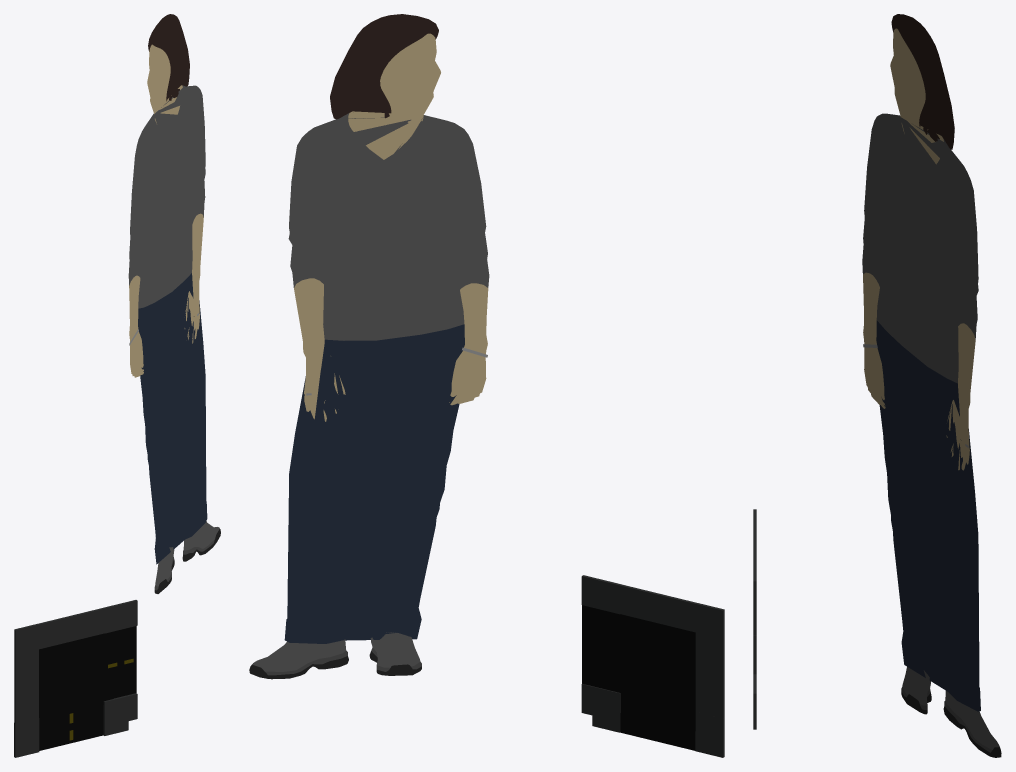
The model's file is Road_turn.obj.
The picture shows the model from 3 angles, left to right: view 1: azimuth 30°, elevation 25°; view 2: azimuth 150°, elevation 25°; view 3: azimuth 270°, elevation 25°; orthographic projection. The views are drawn at different scales.
Parts seen in each view (by area): view 1: Mesh1 Susan1 Model, Mesh11 Mesh_003_1 skp105_1 Model, Mesh2 Mesh_3_1 skp105_1 Model, Mesh16 Mesh_005_1 skp105_1 Model, Mesh10 Mesh_002_1 skp105_1 Model, Mesh15 Mesh_004_1 skp105_1 Model, Mesh20 Mesh_006_1 skp105_1 Model, Mesh3 Mesh_001_1_1 skp105_1 Model, Mesh6 Mesh_001_1_1 skp105_1 Model, Mesh17 Mesh_006_1 skp105_1 Model, Mesh12 Mesh_004_1 skp105_1 Model, Mesh7 Mesh_002_1 skp105_1 Model (+2 smaller); view 2: Mesh1 Susan1 Model, Mesh11 Mesh_003_1 skp105_1 Model, Mesh16 Mesh_005_1 skp105_1 Model, Mesh2 Mesh_3_1 skp105_1 Model, Mesh15 Mesh_004_1 skp105_1 Model, Mesh20 Mesh_006_1 skp105_1 Model, Mesh10 Mesh_002_1 skp105_1 Model, Mesh6 Mesh_001_1_1 skp105_1 Model; view 3: Mesh1 Susan1 Model.
Boxes of the visible parts, bbox=[...] form: Mesh1 Susan1 Model: bbox=[128, 14, 220, 593]; Mesh11 Mesh_003_1 skp105_1 Model: bbox=[39, 631, 113, 720]; Mesh2 Mesh_3_1 skp105_1 Model: bbox=[23, 607, 104, 652]; Mesh16 Mesh_005_1 skp105_1 Model: bbox=[14, 623, 38, 723]; Mesh10 Mesh_002_1 skp105_1 Model: bbox=[120, 626, 136, 696]; Mesh15 Mesh_004_1 skp105_1 Model: bbox=[39, 718, 103, 750]; Mesh20 Mesh_006_1 skp105_1 Model: bbox=[39, 705, 103, 733]; Mesh3 Mesh_001_1_1 skp105_1 Model: bbox=[104, 603, 121, 633]; Mesh6 Mesh_001_1_1 skp105_1 Model: bbox=[113, 630, 119, 698]; Mesh17 Mesh_006_1 skp105_1 Model: bbox=[14, 718, 39, 740]; Mesh12 Mesh_004_1 skp105_1 Model: bbox=[14, 735, 39, 757]; Mesh7 Mesh_002_1 skp105_1 Model: bbox=[120, 600, 137, 629]; Mesh1 Susan1 Model: bbox=[249, 14, 489, 679]; Mesh11 Mesh_003_1 skp105_1 Model: bbox=[620, 614, 695, 711]; Mesh16 Mesh_005_1 skp105_1 Model: bbox=[695, 603, 724, 718]; Mesh2 Mesh_3_1 skp105_1 Model: bbox=[619, 584, 713, 634]; Mesh15 Mesh_004_1 skp105_1 Model: bbox=[620, 713, 695, 750]; Mesh20 Mesh_006_1 skp105_1 Model: bbox=[620, 693, 695, 730]; Mesh10 Mesh_002_1 skp105_1 Model: bbox=[582, 605, 600, 688]; Mesh6 Mesh_001_1_1 skp105_1 Model: bbox=[601, 610, 619, 692]; Mesh1 Susan1 Model: bbox=[862, 14, 1001, 757].
Size of the model in its own units: 37.55 by 74.36 by 21.69.
